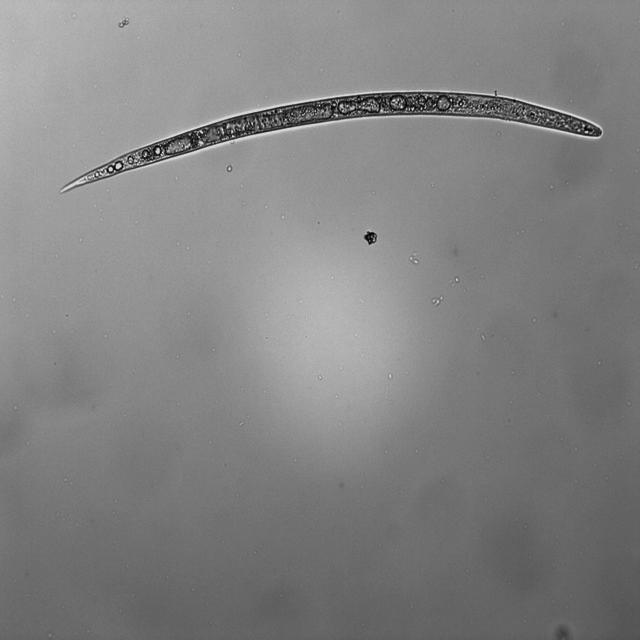Meloidogyne: (52, 80, 602, 203)
